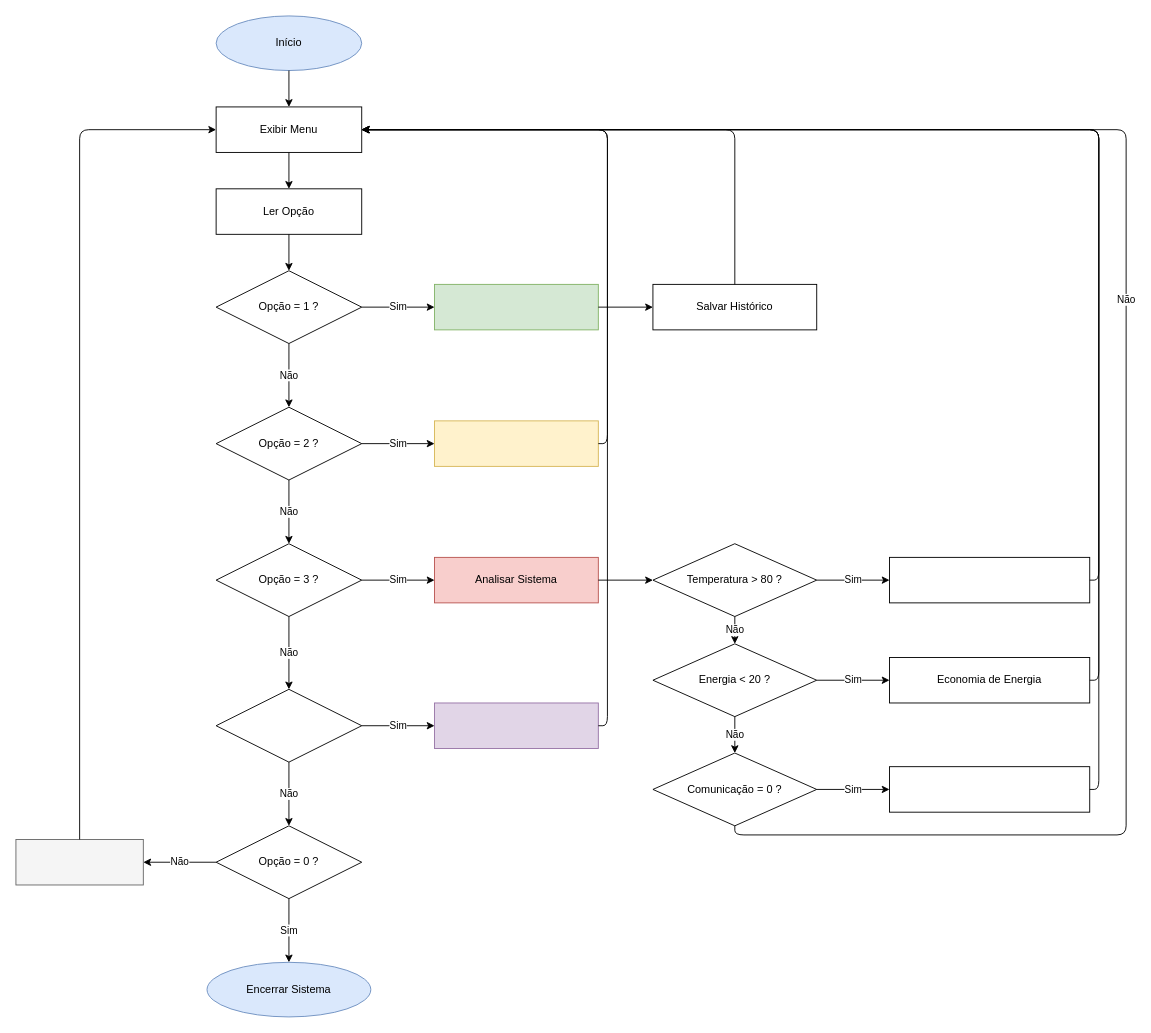
Some shapes in this 1151 by 1033 pixel diagram are drawn without their labels. Here are the shapes that lost their labels. From the top down, the centre of each, then its label:
At point 516,306: "Inserir Dados".
At point 516,443: "Visualizar Status".
At point 989,579: "Alerta de Superaquecimento".
At point 288,725: "Opção = 4 ?".
At point 516,725: "Mostrar Histórico".
At point 989,789: "Falha de Comunicação".
At point 79,862: "Opção Inválida".
